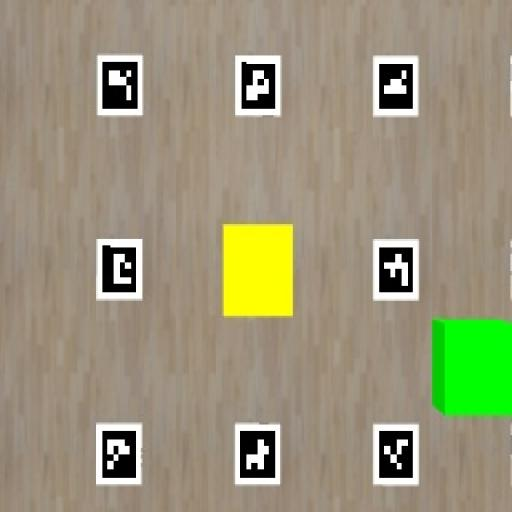car: (431, 318, 511, 415)
fire: (223, 224, 294, 317)
